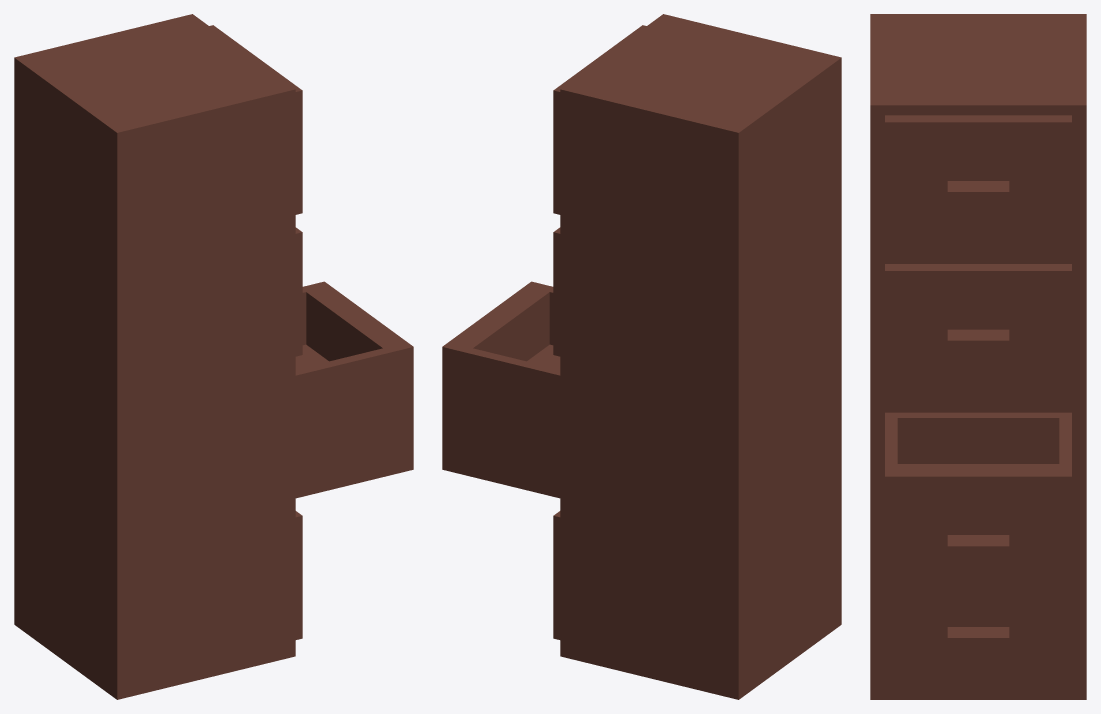
File: lore.fbx
The picture shows the model from 3 angles, left to right: view 1: azimuth 30°, elevation 25°; view 2: azimuth 150°, elevation 25°; view 3: azimuth 270°, elevation 25°; orthographic projection. The views are drawn at different scales.
Visible parts, largest first — view 1: Cube; view 2: Cube; view 3: Cube.
Part boxes in pixels (bbox=[...]): Cube: bbox=[14, 14, 413, 699]; Cube: bbox=[442, 14, 841, 699]; Cube: bbox=[870, 14, 1086, 699].
Bounding box in the file's own units: 364 × 607 × 200.
